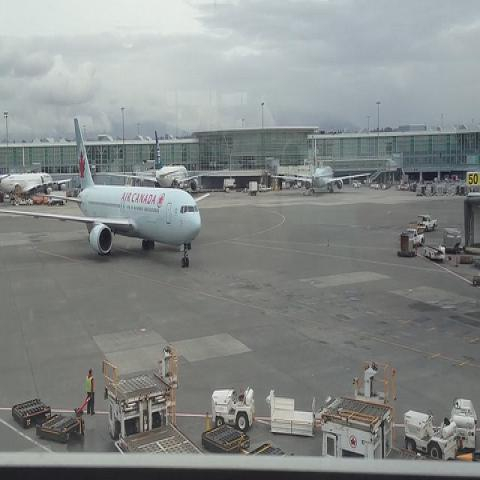car: (211, 385, 256, 434), (450, 398, 478, 451), (407, 230, 424, 248), (286, 183, 290, 189)
truck: (314, 393, 432, 460), (404, 408, 462, 462), (211, 378, 262, 430), (438, 228, 464, 254), (401, 230, 425, 246), (418, 213, 438, 231), (47, 190, 66, 206), (423, 246, 445, 259), (247, 181, 257, 196), (224, 179, 236, 189)
